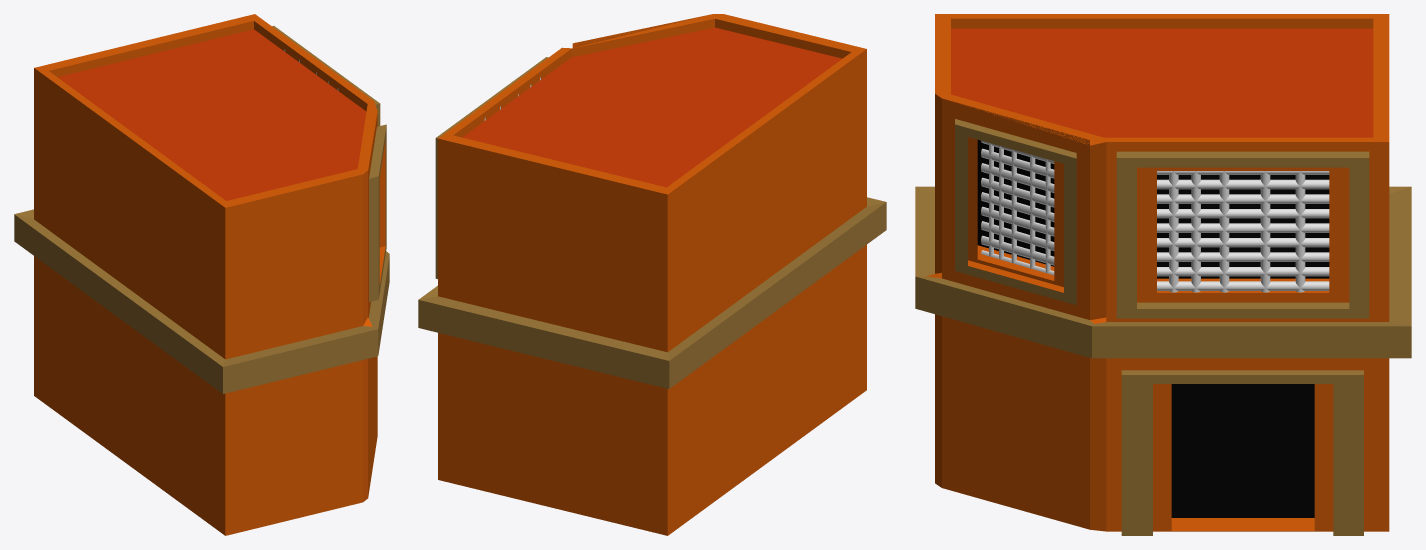
Rendered from House sand .fbx.
3 views of the same model, side by side, from view 1: azimuth 30°, elevation 25°; view 2: azimuth 150°, elevation 25°; view 3: azimuth 270°, elevation 25° (orthographic). The views are drawn at different scales.
Visible parts, largest first — view 1: Cube; view 2: Cube; view 3: Cube, Cylinder.011, Cylinder.001.
Boxes of the visible parts, x1=… form: Cube: x1=14, y1=14, x2=389, y2=535; Cube: x1=418, y1=14, x2=886, y2=535; Cube: x1=915, y1=14, x2=1411, y2=535; Cylinder.011: x1=1157, y1=171, x2=1329, y2=292; Cylinder.001: x1=981, y1=140, x2=1054, y2=275.
Size of the model in its own units: 1062 by 1375 by 1586.
